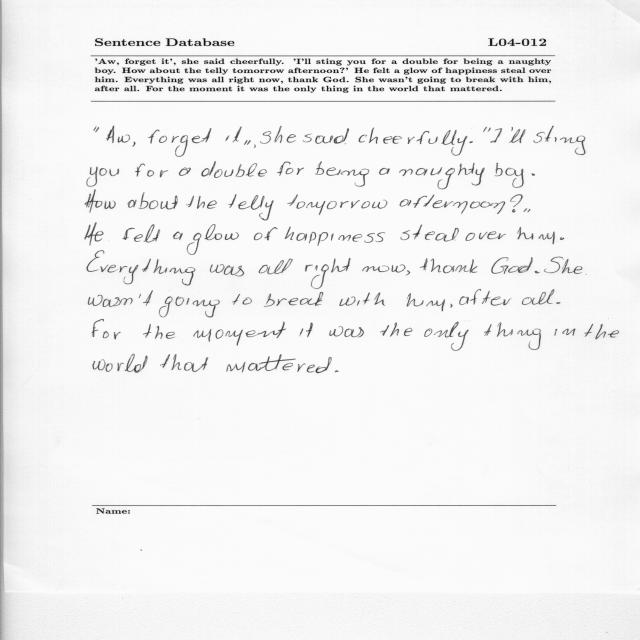word: (87, 251, 195, 286), (359, 128, 468, 156), (399, 163, 485, 189), (193, 322, 286, 346), (288, 194, 387, 215), (226, 354, 332, 373), (400, 195, 505, 214), (285, 227, 385, 246), (148, 128, 212, 157), (187, 224, 239, 255), (484, 322, 541, 350), (534, 126, 586, 155), (315, 161, 369, 187), (305, 258, 350, 289), (424, 322, 469, 351), (159, 297, 220, 318), (229, 194, 274, 221), (201, 161, 267, 178), (88, 290, 153, 307), (93, 354, 148, 373), (400, 225, 459, 242), (459, 289, 512, 306), (264, 292, 323, 307), (160, 354, 208, 372), (420, 258, 477, 273), (128, 193, 178, 210), (303, 129, 349, 145), (495, 163, 524, 188), (491, 257, 533, 274), (85, 190, 116, 213), (407, 293, 445, 311), (123, 225, 160, 243), (260, 126, 296, 144), (517, 227, 555, 244), (544, 257, 582, 274), (87, 167, 119, 187), (340, 293, 385, 306), (92, 319, 121, 339), (522, 289, 554, 305), (259, 259, 293, 274), (585, 324, 619, 339), (380, 322, 413, 337), (143, 324, 175, 339), (135, 164, 168, 178), (210, 264, 244, 277), (85, 223, 103, 246), (465, 231, 506, 241), (106, 126, 130, 143), (277, 161, 304, 176), (186, 196, 217, 209), (362, 264, 406, 273), (329, 327, 364, 338), (254, 227, 278, 241), (225, 127, 242, 143), (509, 127, 526, 143), (510, 195, 523, 213), (232, 294, 252, 305), (300, 323, 313, 338), (490, 128, 502, 143), (555, 328, 576, 336), (179, 167, 191, 176), (173, 231, 183, 240), (379, 168, 390, 175), (483, 127, 491, 132), (244, 140, 251, 145), (94, 127, 99, 132), (524, 209, 530, 213), (406, 271, 410, 276), (133, 142, 136, 147), (535, 271, 540, 274), (531, 173, 535, 176), (560, 237, 564, 240), (450, 304, 453, 308), (254, 145, 256, 149), (557, 302, 561, 304), (335, 371, 339, 373), (470, 141, 473, 143)
